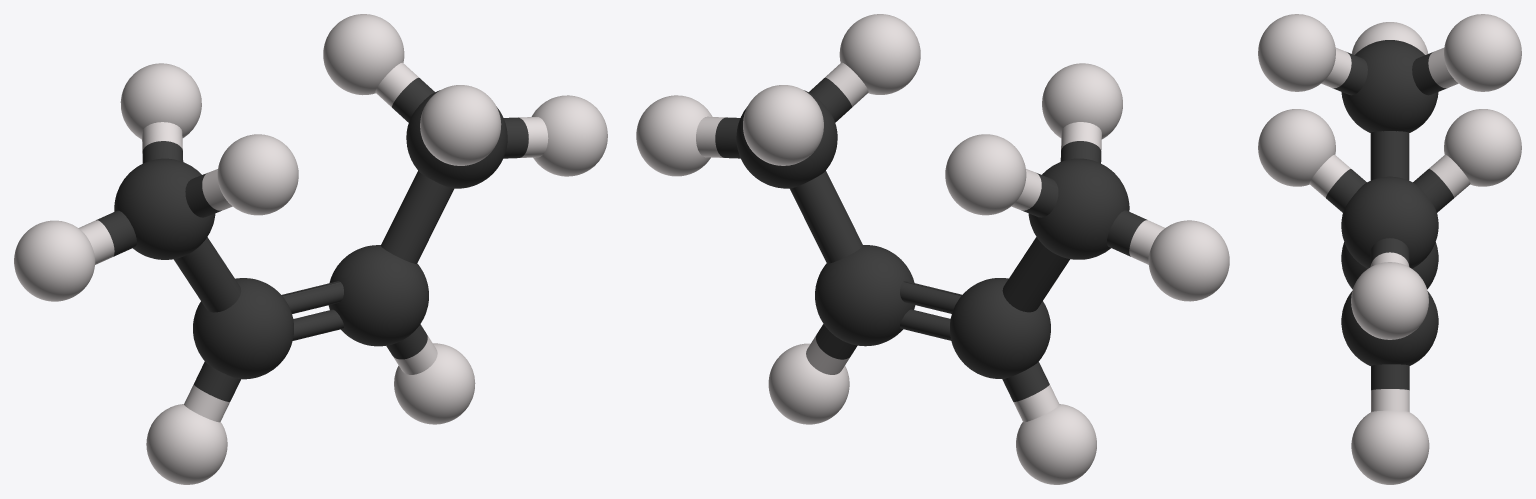
File: dxw.gltf
3 renders of one model, left to right at view 1: azimuth 30°, elevation 25°; view 2: azimuth 150°, elevation 25°; view 3: azimuth 270°, elevation 25°, orthographic. The views are drawn at different scales.
Parts seen in each view (by area): view 1: Sphere031; view 2: Sphere031; view 3: Sphere031.
Part boxes in pixels (x1,y1,x2,y2): Sphere031: [14, 14, 607, 484]; Sphere031: [636, 14, 1229, 484]; Sphere031: [1258, 14, 1521, 484].
Bounding box in the file's own units: 49.7 × 30.4 × 20.3.
Materials: 2 (2 with a texture image).
